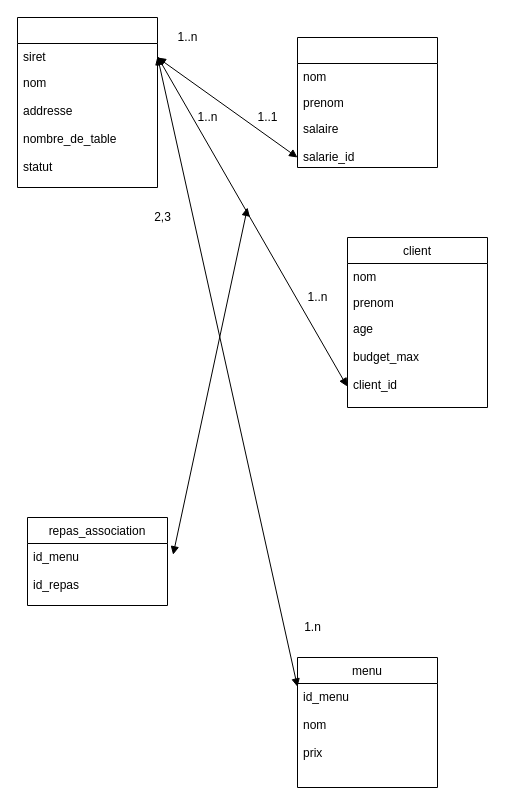
This 505x808 diagram has some shape labels left out. Here are the shapes that lost their labels. From the top down, the box of each, then its label:
(16, 16, 158, 188): RESTAURANT
(296, 36, 438, 168): salaries
